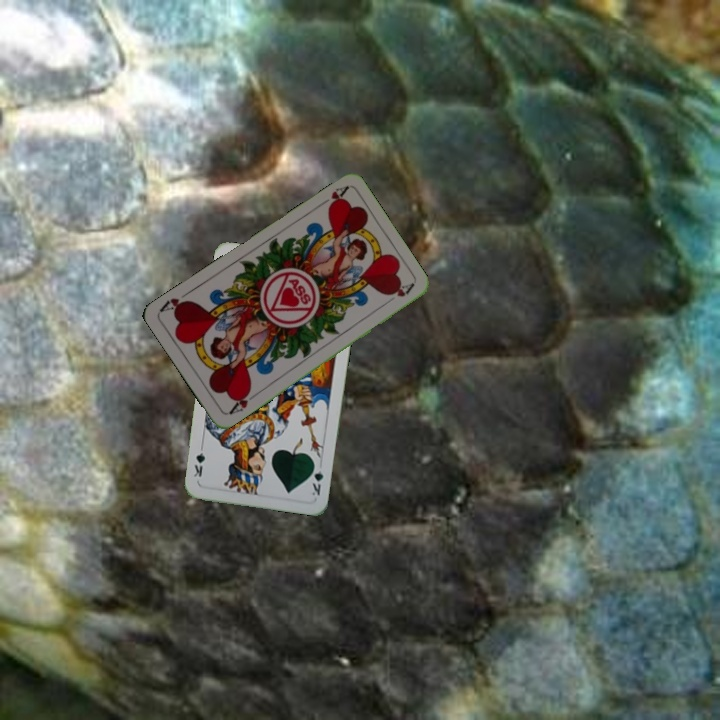GK: (308, 459, 326, 498)
HA: (225, 385, 260, 418), (313, 182, 350, 213)
